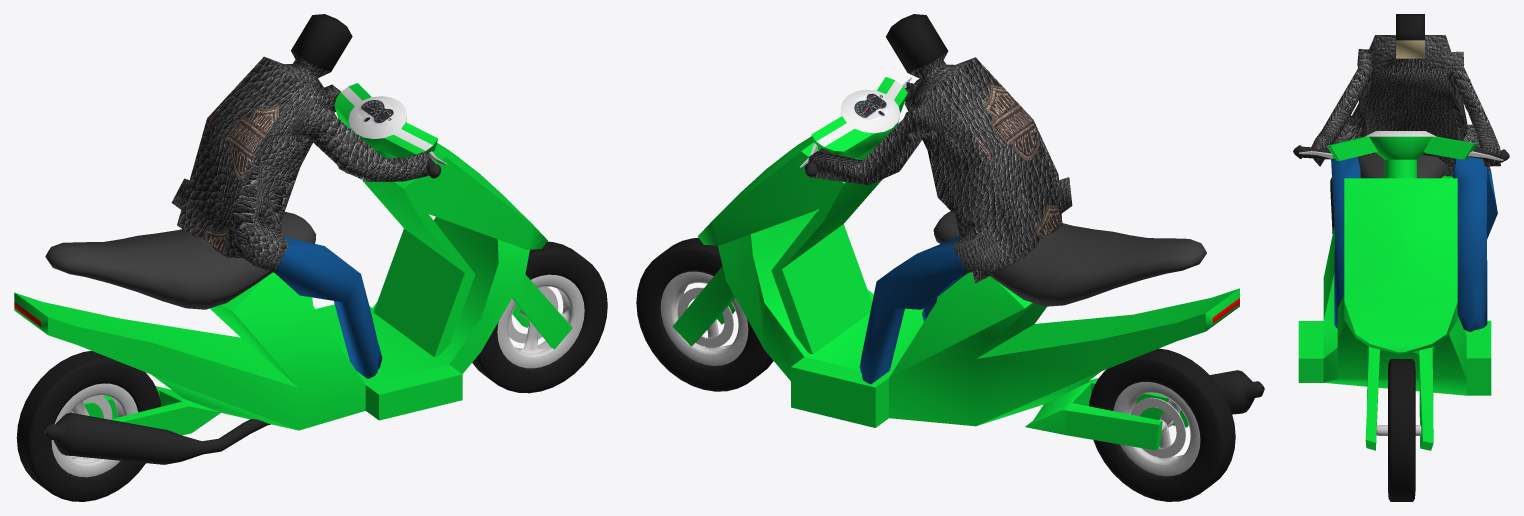
The model's file is vcycle.FBX.
3 renders of one model, left to right at view 1: azimuth 30°, elevation 25°; view 2: azimuth 150°, elevation 25°; view 3: azimuth 270°, elevation 25°, orthographic. The views are drawn at different scales.
Parts seen in each view (by area): view 1: Box001, Box004, Tube002, Box003, Tube001, Cylinder001, Cylinder002; view 2: Box001, Box004, Tube002, Tube001, Box003, Cylinder002, Cylinder001; view 3: Box001, Box004, Cylinder002, Tube001, Box003.
Boxes of the visible parts, x1,y1,x2,y2 form: Box001: [14, 143, 572, 435]; Box004: [171, 14, 429, 378]; Tube002: [16, 351, 161, 501]; Box003: [45, 211, 316, 309]; Tube001: [472, 241, 607, 393]; Cylinder001: [44, 412, 270, 464]; Cylinder002: [334, 83, 447, 178]; Box001: [672, 136, 1239, 450]; Box004: [807, 14, 1072, 384]; Tube002: [1089, 348, 1235, 501]; Tube001: [636, 238, 773, 391]; Box003: [933, 211, 1206, 306]; Cylinder002: [799, 77, 920, 176]; Cylinder001: [1210, 370, 1264, 414]; Box001: [1298, 176, 1491, 450]; Box004: [1311, 14, 1500, 331]; Cylinder002: [1293, 131, 1509, 178]; Tube001: [1376, 359, 1421, 501]; Box003: [1352, 104, 1450, 178].
Bounding box in the file's own units: 50.49 × 17.39 × 34.23.
14 materials, 3 textured.
